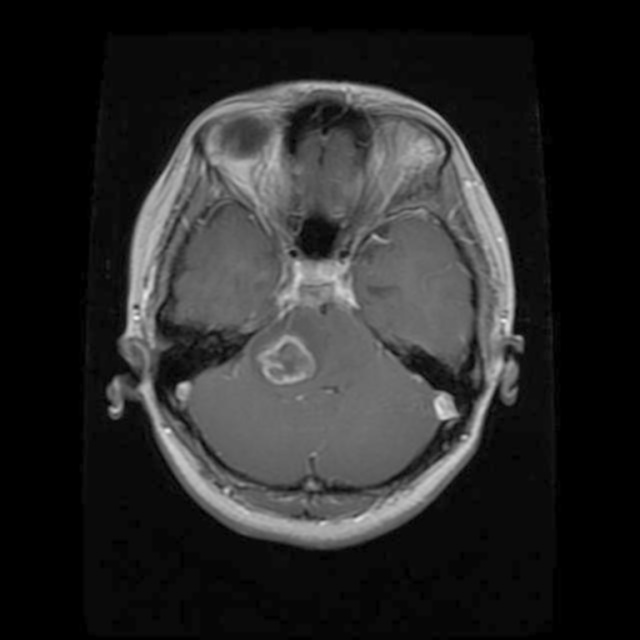pituitary tumor: (254, 332, 316, 388)
